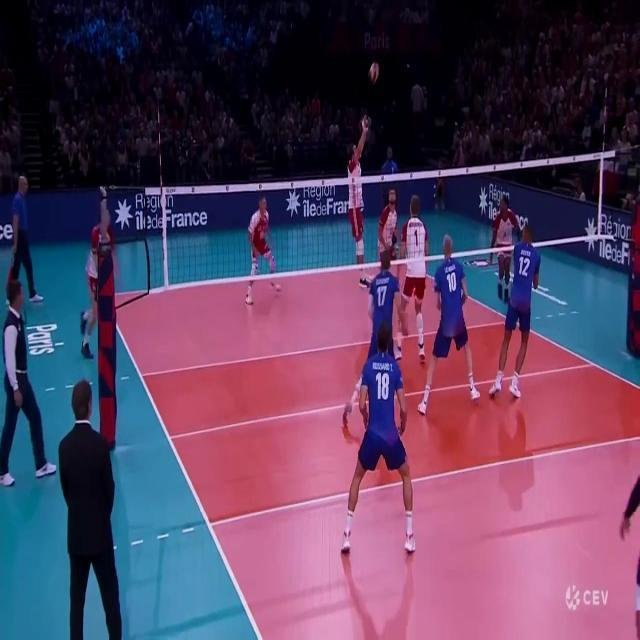volleyball: (369, 63, 379, 83)
